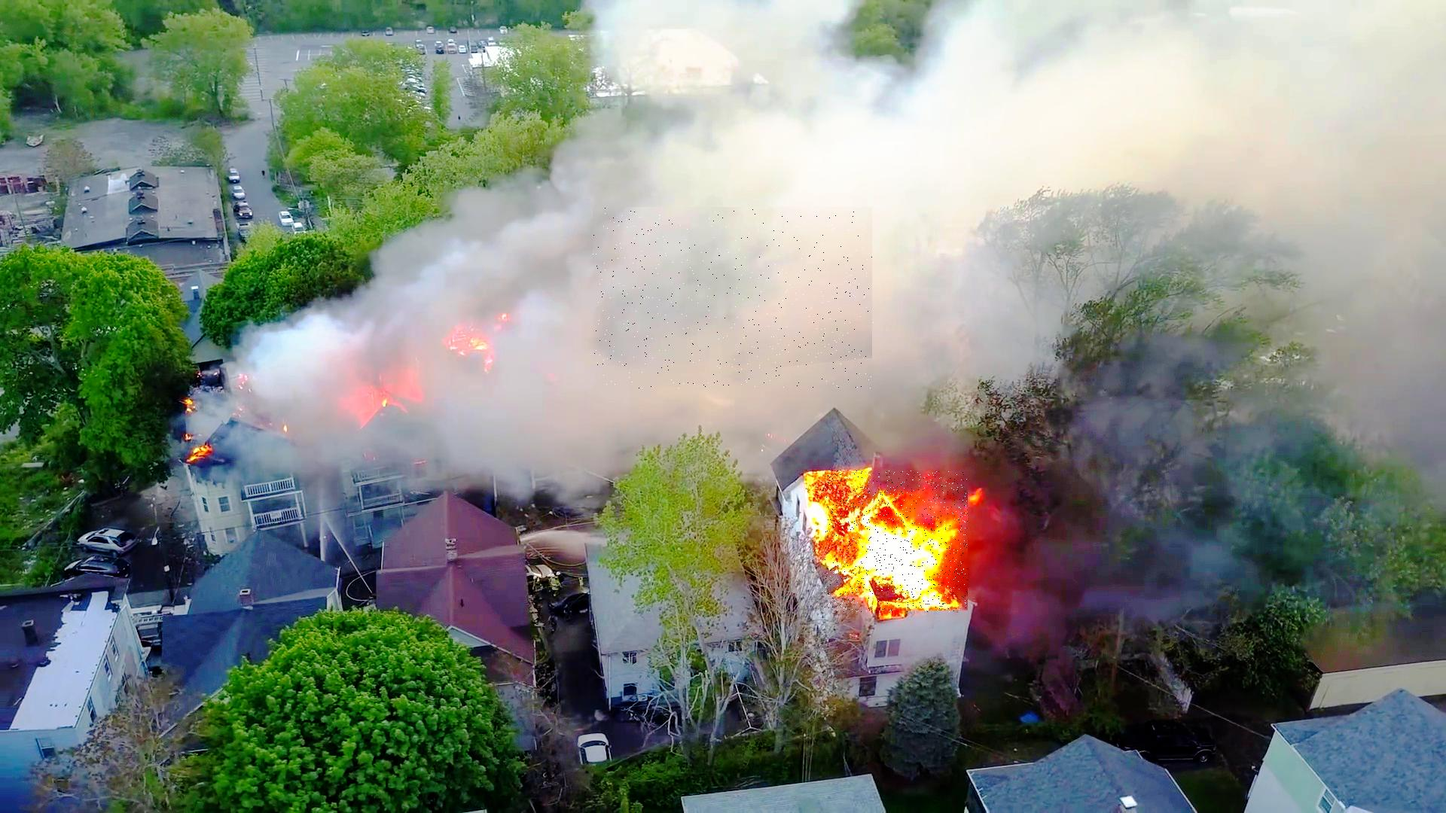fire: (825, 471, 968, 613)
smoke: (593, 207, 874, 389)
